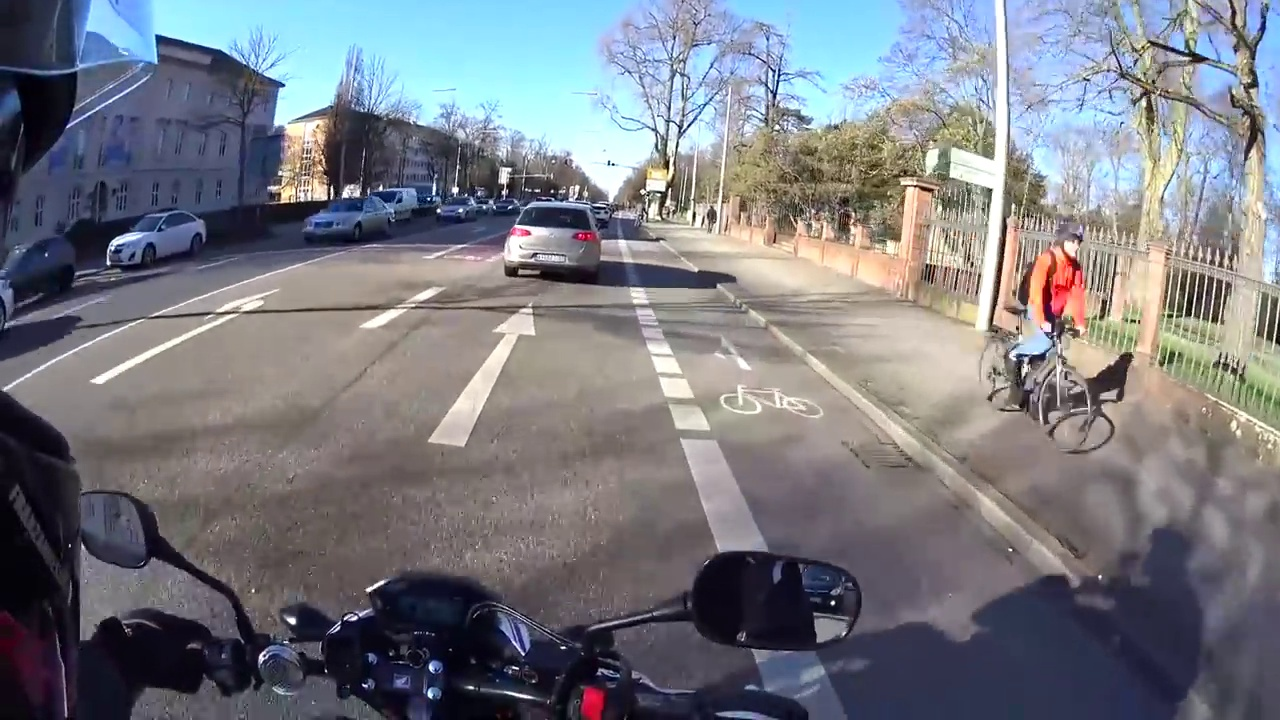cyclist_front: (968, 208, 1108, 460)
